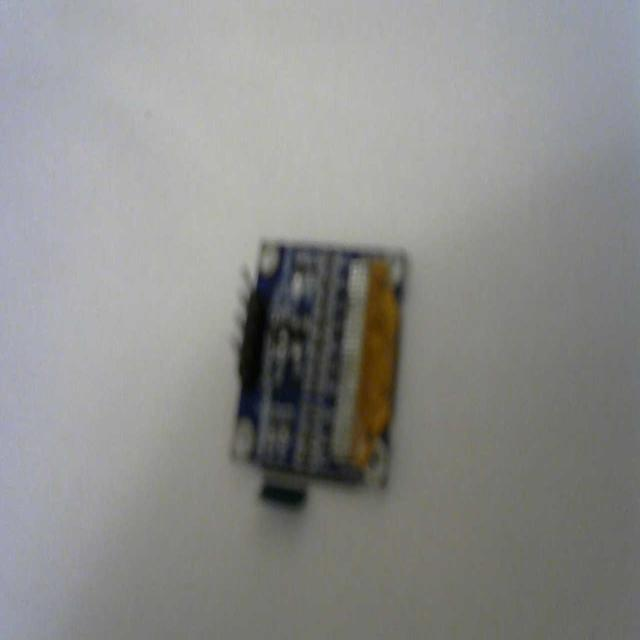oled: (223, 228, 407, 514)
